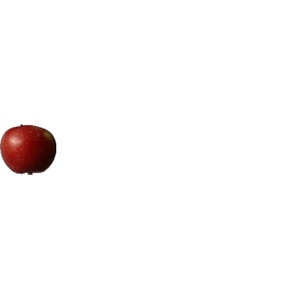maçã braeburn: (1, 123, 58, 173)
